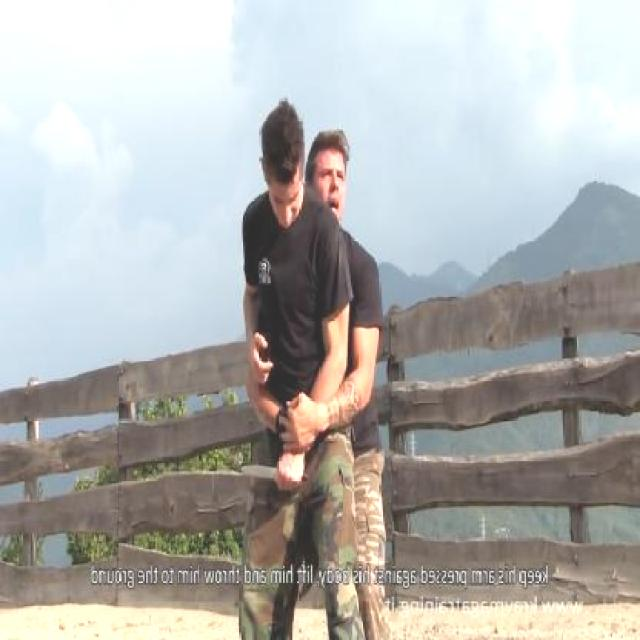knife: (237, 457, 311, 491)
